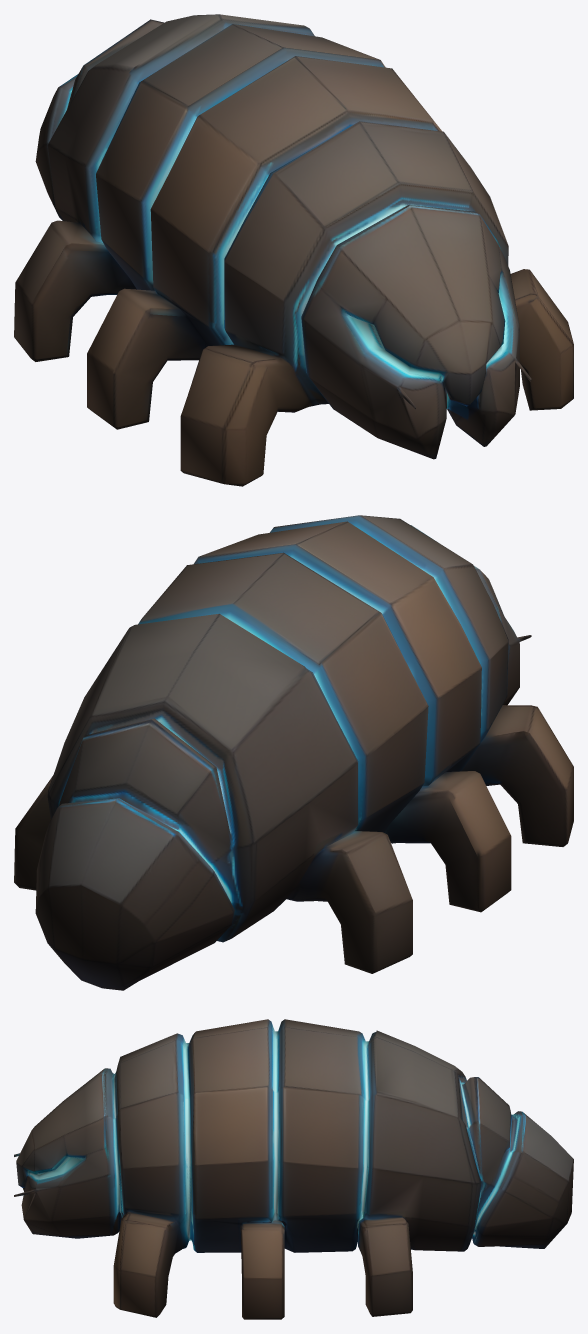
File: monster_tank.glb
3 views of the same model, one above another, from view 1: azimuth 30°, elevation 25°; view 2: azimuth 150°, elevation 25°; view 3: azimuth 270°, elevation 25° (orthographic). The views are drawn at different scales.
Parts seen in each view (by area): view 1: mesh_rep_0_ori_repair_quad; view 2: mesh_rep_0_ori_repair_quad; view 3: mesh_rep_0_ori_repair_quad.
Boxes of the visible parts, box(x1,y1,x2,y2) form: mesh_rep_0_ori_repair_quad: box(14, 14, 573, 486); mesh_rep_0_ori_repair_quad: box(14, 515, 573, 990); mesh_rep_0_ori_repair_quad: box(14, 1019, 573, 1319).
Bounding box in the file's own units: 68.34 × 51.48 × 116.
Materials: 1 (1 with a texture image).
